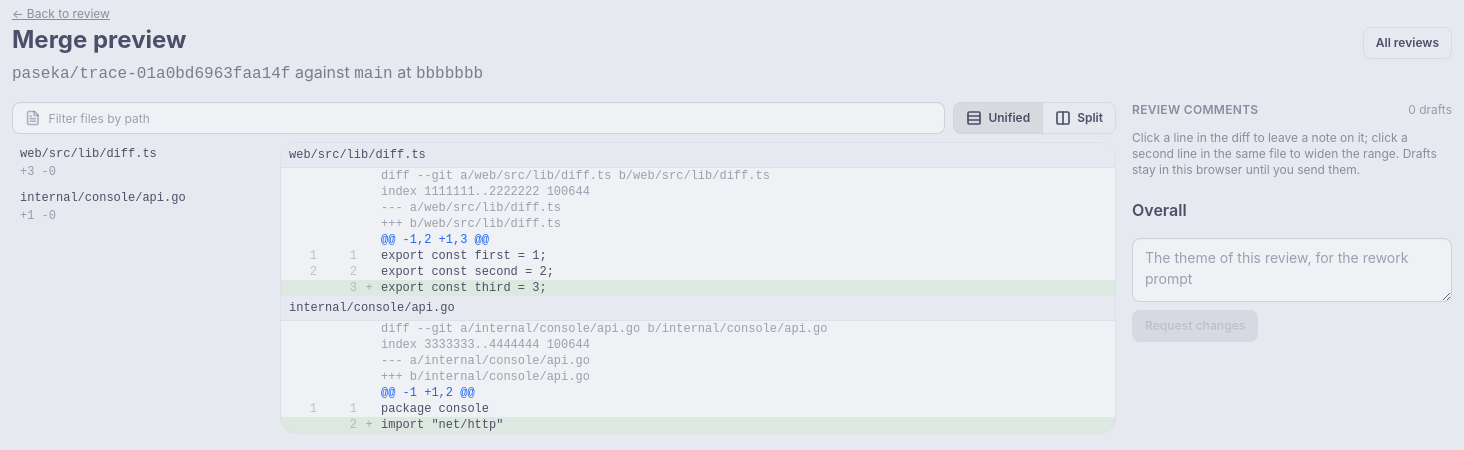
Test case: merge preview › keeps the path filter across a layout switch, because the list is not the layout
The width and height of the screenshot is (1464, 450).
Type "console" into the search field labelled "Filter files by path".
click(490, 118); type("console")  # box [49,103,932,133]
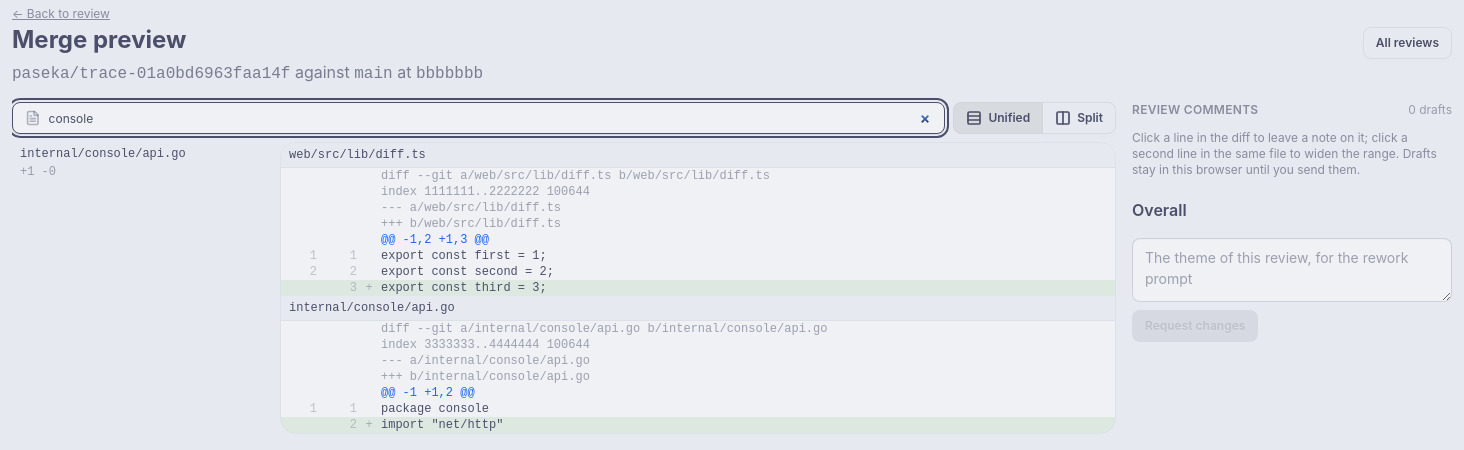
Expected: the text "internal/console/api.go" is shown, [20,147,186,161]
Click the button "Split".
click(1079, 118)  # box [1042,102,1116,134]
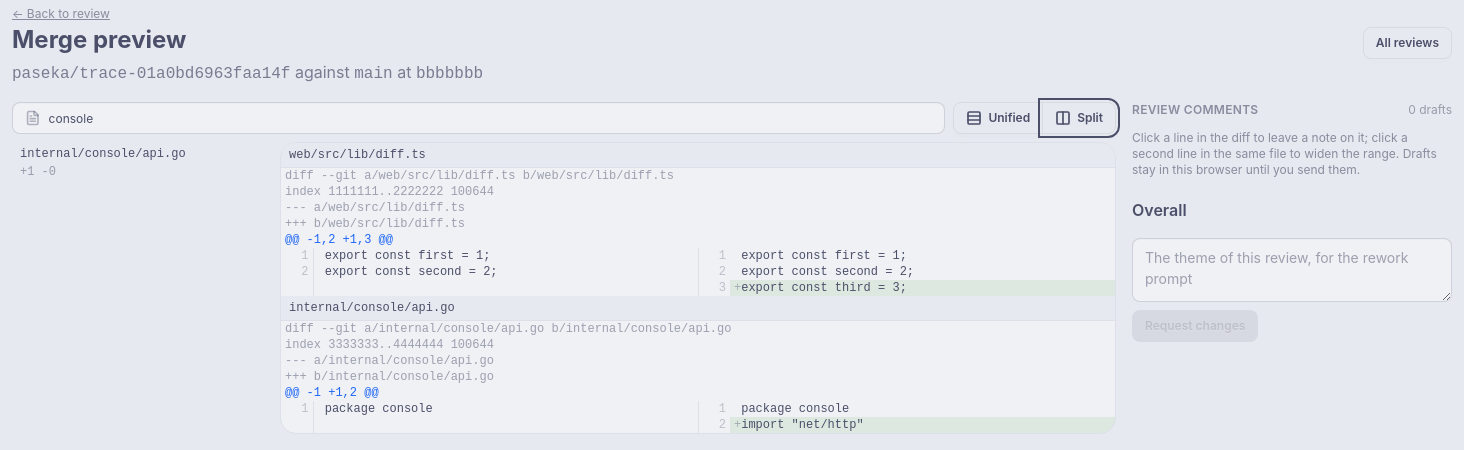
Expected: the text "internal/console/api.go" is shown, [20,147,186,161]
Expected: the text "import \"net/http\"" is shown once, [730,417,1115,433]
Expected: the text "export const first = 1;" is shown 2 times, [313,248,698,264]; [730,248,1115,264]
